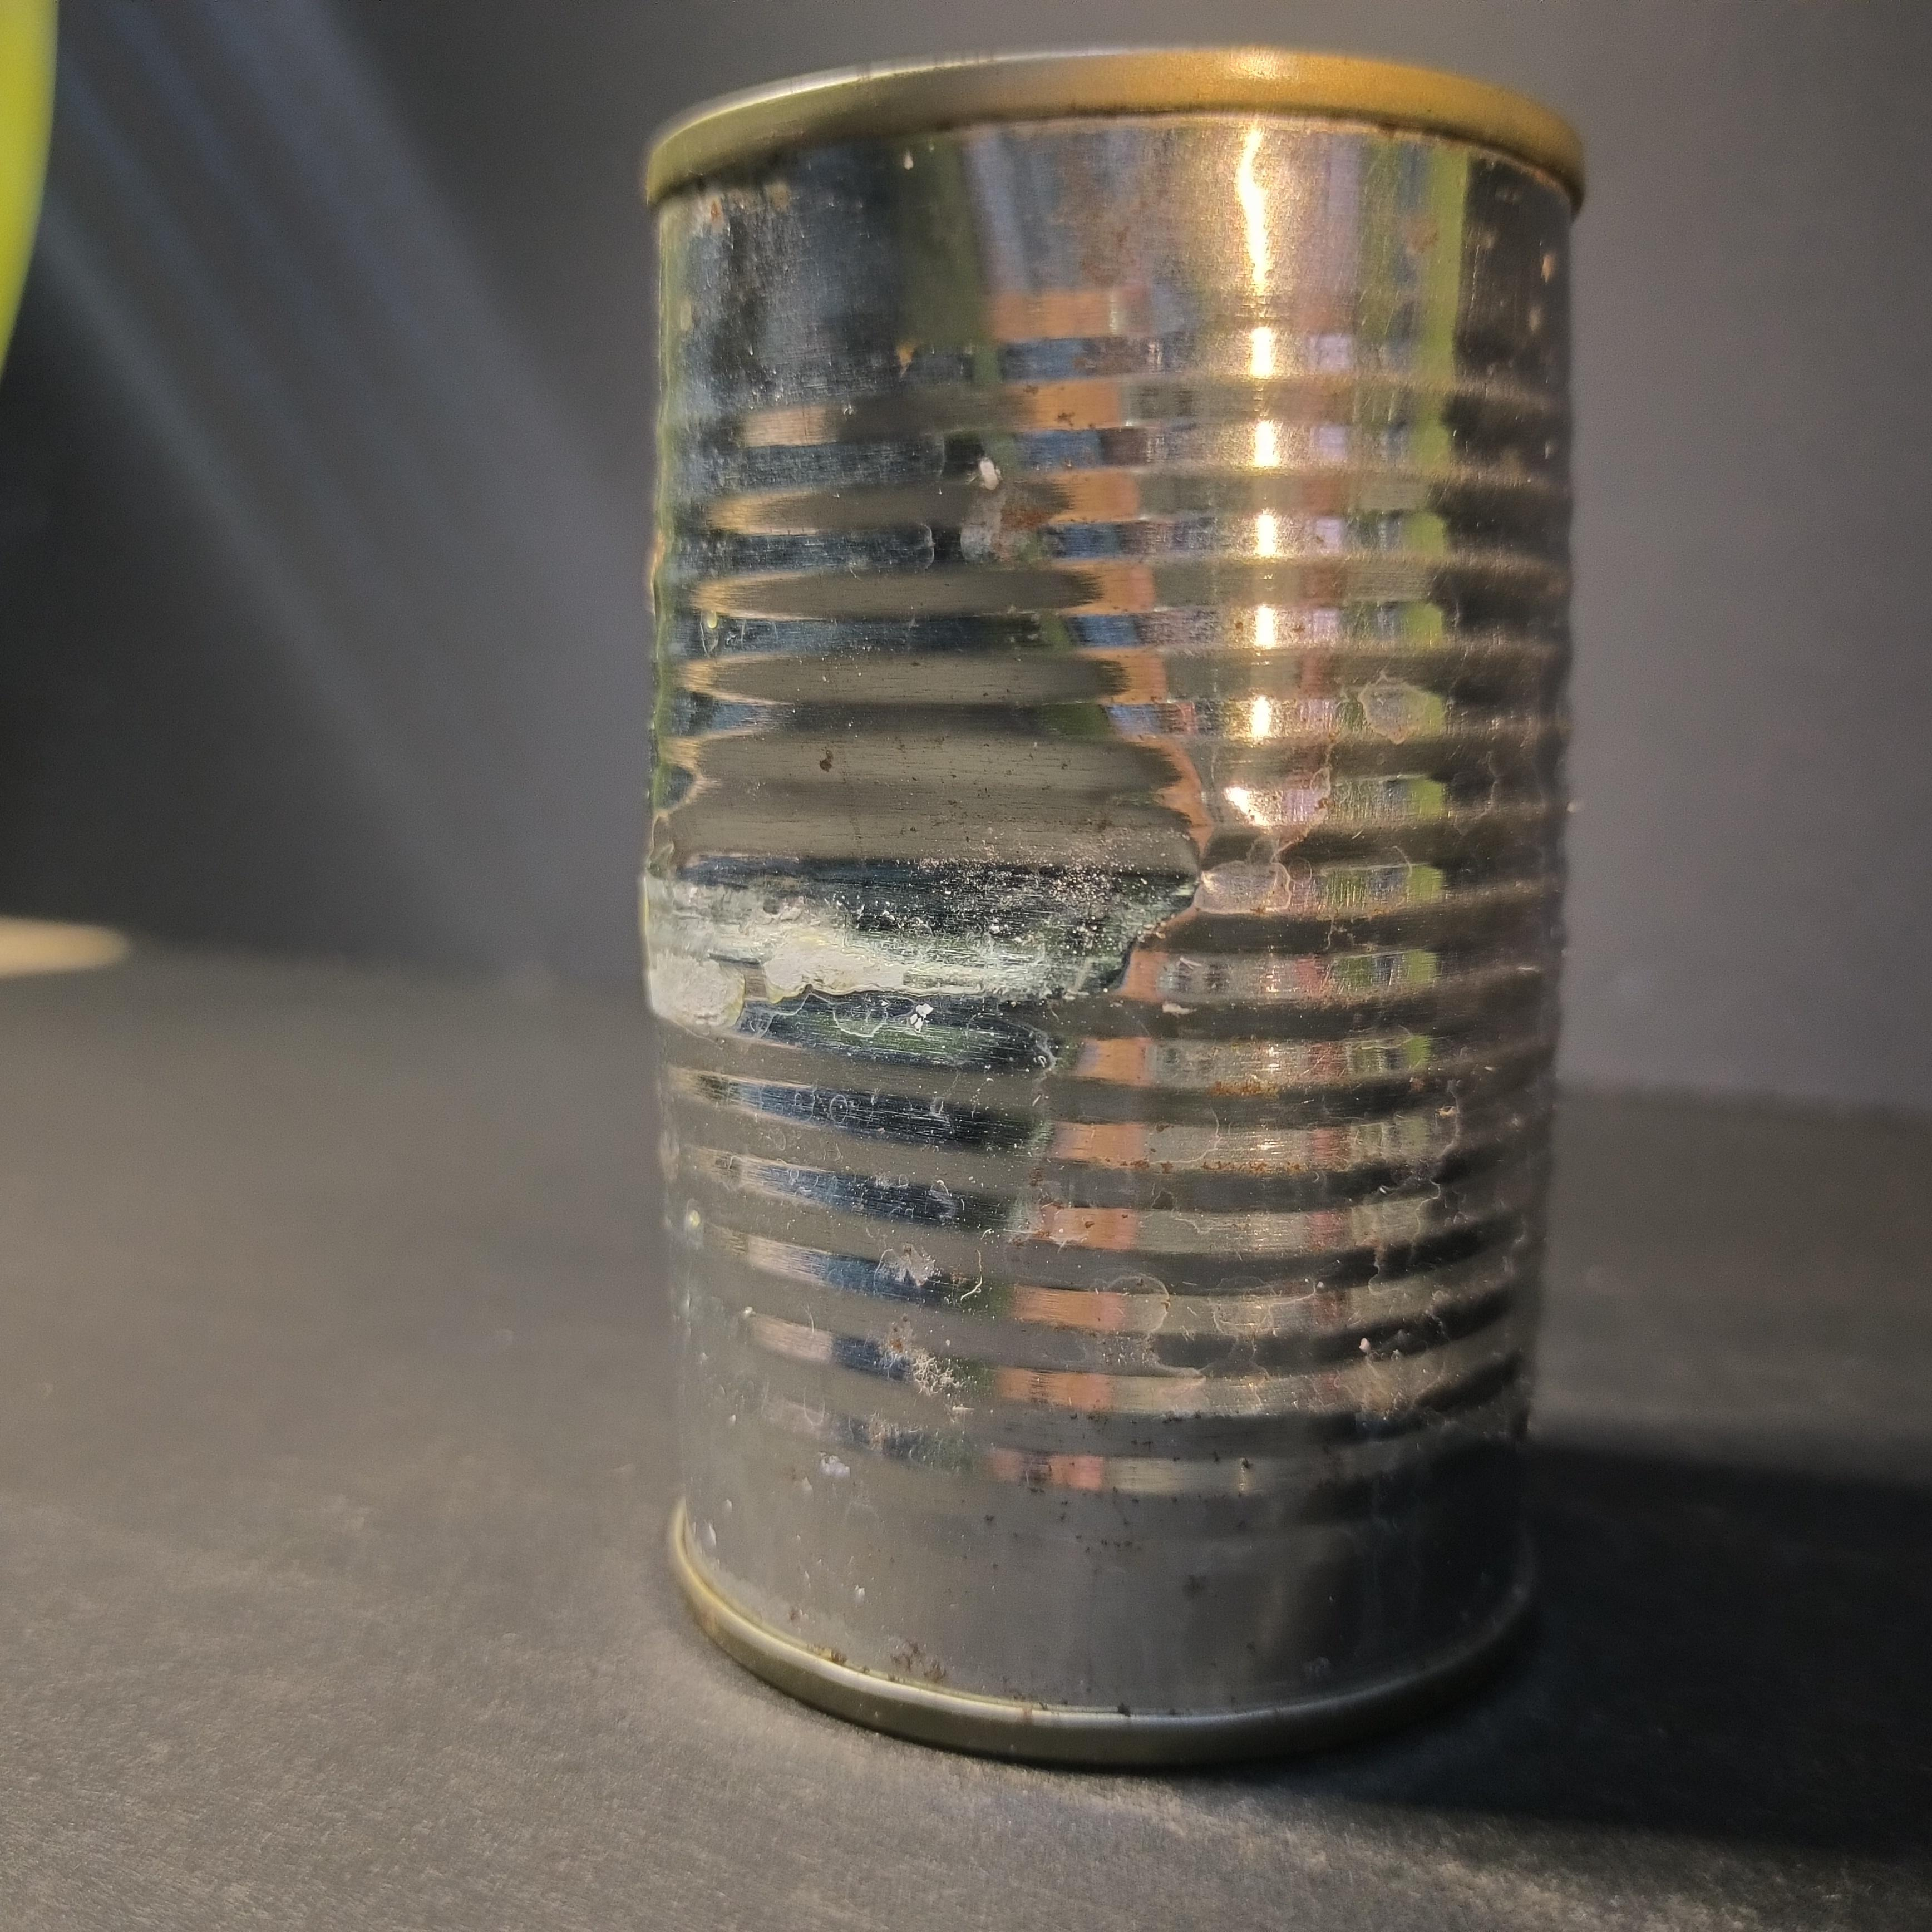Dented: (628, 35, 1592, 1755)
